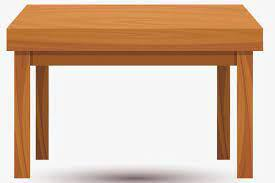desk: (4, 2, 266, 182)
